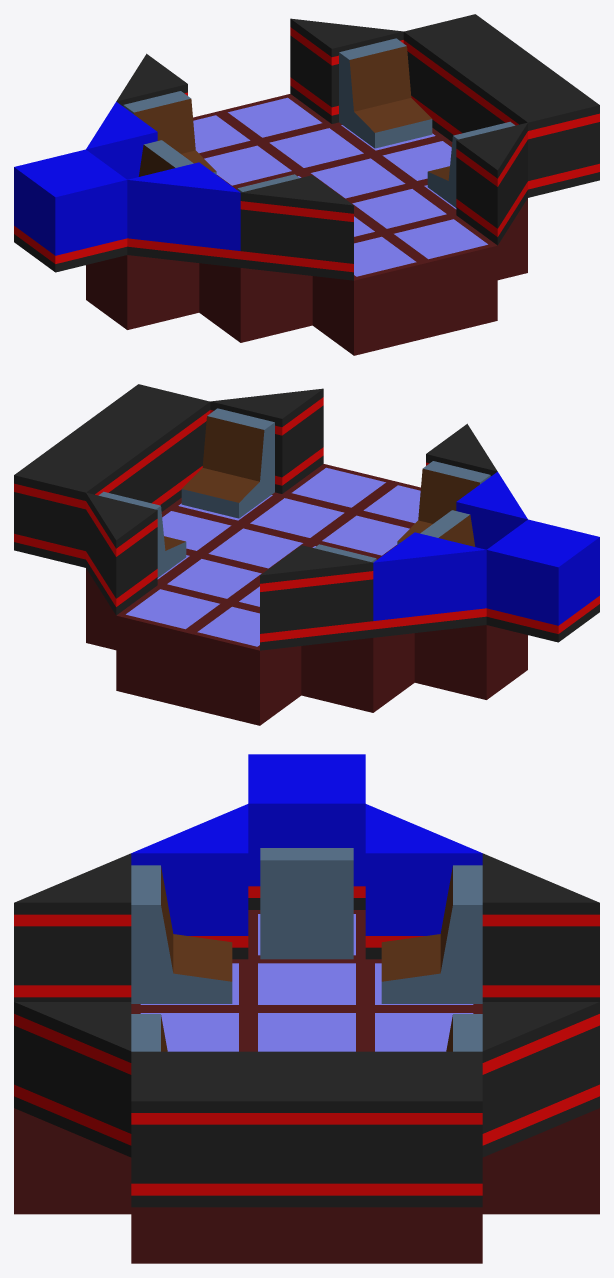
The model's file is Shuttle.fbx.
3 views of the same model, one above another, from view 1: azimuth 30°, elevation 25°; view 2: azimuth 150°, elevation 25°; view 3: azimuth 270°, elevation 25° (orthographic). The views are drawn at different scales.
Visible parts, largest first — view 1: ShuttleWindow, ShuttleFloor.015, ShuttleAngledWindow, ShuttleAngleWall, ShuttleWall.002, ShuttleFloor.016, ShuttleChair.001, ShuttleFloor.011, ShuttleAngleWall.001, ShuttleFloor.012, ShuttleAngleWall.003, ShuttleWall (+16 smaller); view 2: ShuttleWindow, ShuttleFloor.014, ShuttleAngledWindow.001, ShuttleAngleWall.002, ShuttleWall, ShuttleFloor.013, ShuttleChair.003, ShuttleFloor, ShuttleAngleWall.003, ShuttleFloor.012, ShuttleAngleWall.001, ShuttleWall.002 (+16 smaller); view 3: ShuttleWall.001, ShuttleWall, ShuttleWall.002, ShuttleAngleWall.001, ShuttleAngleWall.003, ShuttleAngleWall, ShuttleAngleWall.002, ShuttleWindow, ShuttleAngledWindow, ShuttleAngledWindow.001, ShuttleChair.004, ShuttleFloor.013 (+15 smaller).
Part boxes in pixels (bbox=[...]): ShuttleWindow: bbox=[14, 149, 127, 272]; ShuttleFloor.015: bbox=[312, 233, 425, 355]; ShuttleAngledWindow: bbox=[127, 162, 240, 267]; ShuttleAngleWall: bbox=[240, 175, 353, 280]; ShuttleWall.002: bbox=[486, 75, 599, 197]; ShuttleFloor.016: bbox=[384, 215, 497, 338]; ShuttleChair.001: bbox=[339, 38, 432, 148]; ShuttleFloor.011: bbox=[199, 263, 312, 342]; ShuttleAngleWall.001: bbox=[456, 122, 527, 245]; ShuttleFloor.012: bbox=[86, 255, 199, 329]; ShuttleAngleWall.003: bbox=[290, 18, 403, 123]; ShuttleWall: bbox=[403, 14, 516, 136]; ShuttleWindow: bbox=[486, 519, 599, 642]; ShuttleFloor.014: bbox=[188, 603, 301, 725]; ShuttleAngledWindow.001: bbox=[373, 532, 486, 637]; ShuttleAngleWall.002: bbox=[260, 545, 373, 650]; ShuttleWall: bbox=[14, 445, 127, 567]; ShuttleFloor.013: bbox=[116, 585, 229, 708]; ShuttleChair.003: bbox=[181, 408, 274, 518]; ShuttleFloor: bbox=[301, 633, 414, 712]; ShuttleAngleWall.003: bbox=[86, 492, 157, 615]; ShuttleFloor.012: bbox=[414, 625, 527, 699]; ShuttleAngleWall.001: bbox=[210, 388, 323, 493]; ShuttleWall.002: bbox=[97, 384, 210, 506]; ShuttleWall.001: bbox=[248, 1051, 365, 1207]; ShuttleWall: bbox=[365, 1051, 482, 1207]; ShuttleWall.002: bbox=[131, 1051, 248, 1207]; ShuttleAngleWall.001: bbox=[14, 1002, 131, 1157]; ShuttleAngleWall.003: bbox=[482, 1002, 599, 1157]; ShuttleAngleWall: bbox=[14, 853, 131, 1001]; ShuttleAngleWall.002: bbox=[482, 853, 599, 1001]; ShuttleWindow: bbox=[248, 754, 365, 909]; ShuttleAngledWindow: bbox=[131, 804, 248, 959]; ShuttleAngledWindow.001: bbox=[365, 804, 482, 959]; ShuttleChair.004: bbox=[260, 848, 353, 959]; ShuttleFloor.013: bbox=[482, 1108, 599, 1214].
Bounding box in the file's own units: 1400 × 400 × 1000.
